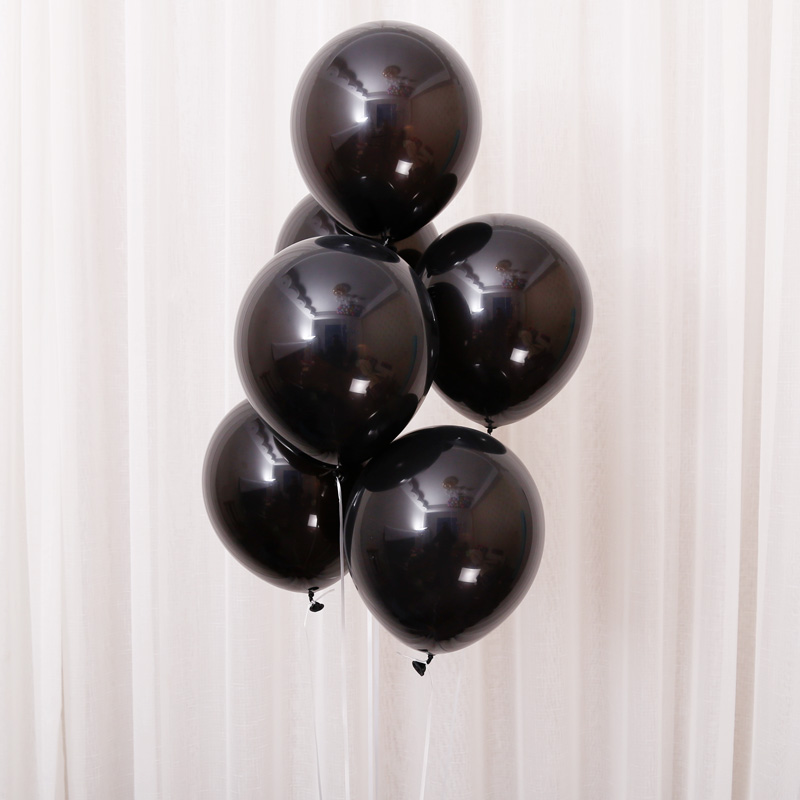balloon: (346, 429, 545, 659), (235, 237, 432, 468), (291, 21, 482, 235), (416, 217, 589, 427), (203, 400, 356, 597), (277, 187, 444, 271)
